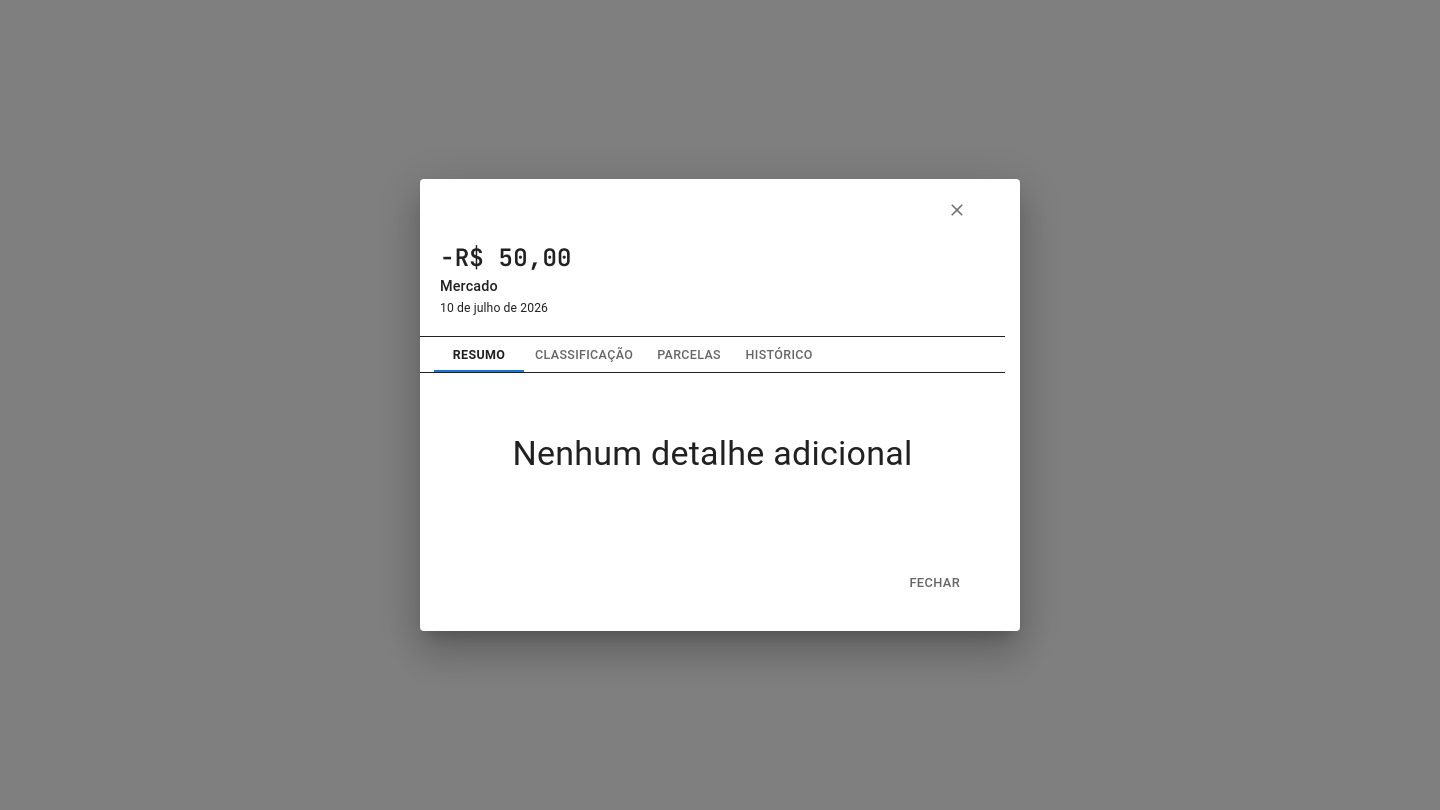
TransactionDetailDialog › renderiza as 4 abas somente leitura e permite navegar entre elas
Click the tab "Histórico".
click(779, 354)  # box [734,337,824,372]
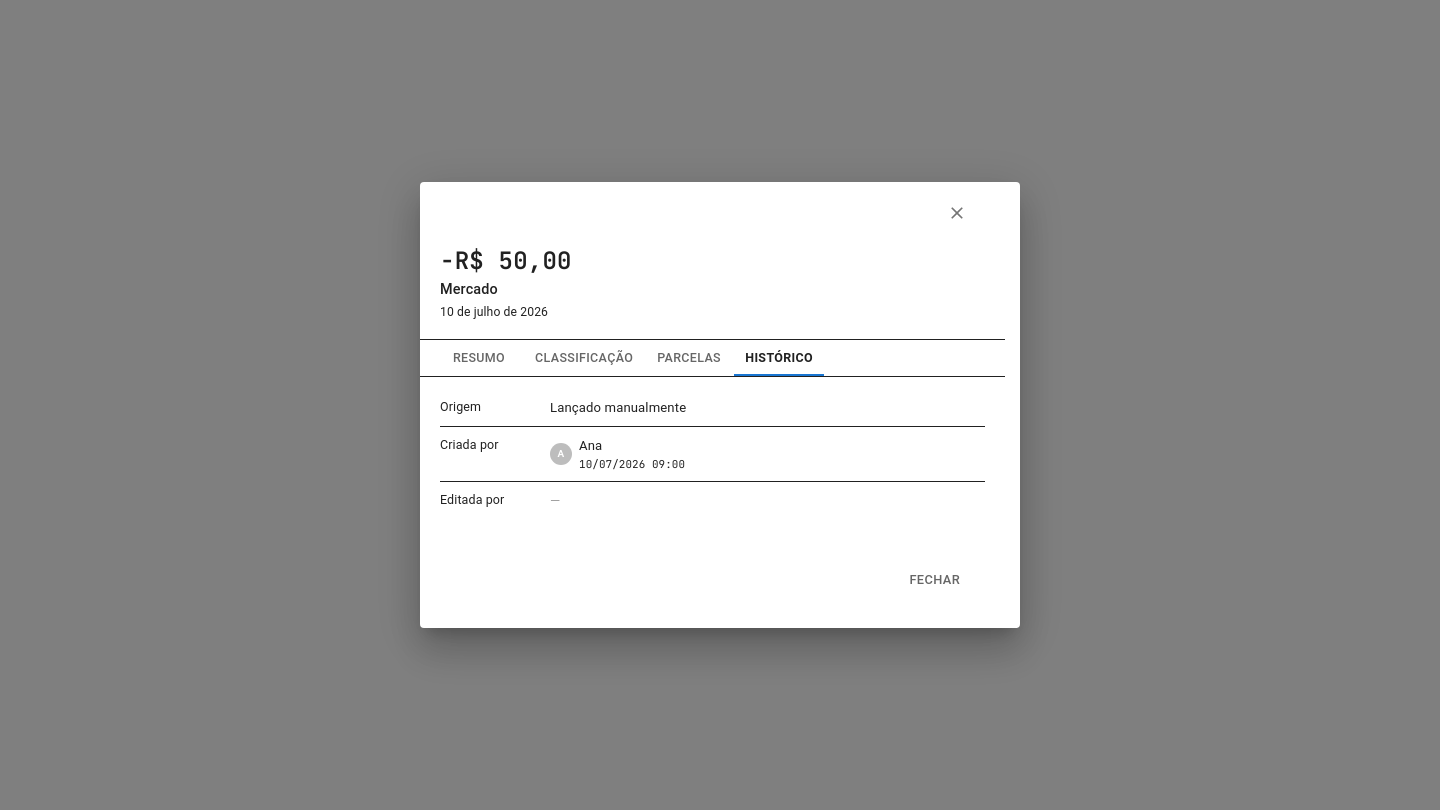
expect the text "Origem" is shown: met, box [440,398,481,414]
